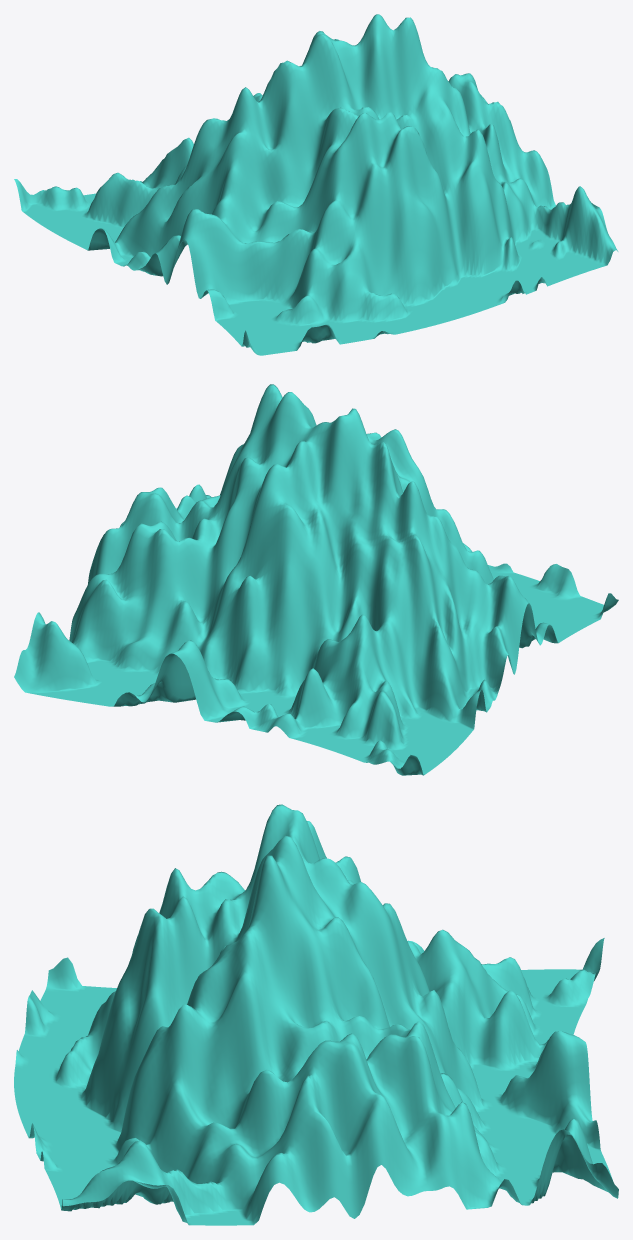
File: rag.glb
3 views of the same model, one above another, from view 1: azimuth 30°, elevation 25°; view 2: azimuth 150°, elevation 25°; view 3: azimuth 270°, elevation 25° (orthographic). The views are drawn at different scales.
Size of the model in its own units: 4.36 by 2.26 by 4.35.
